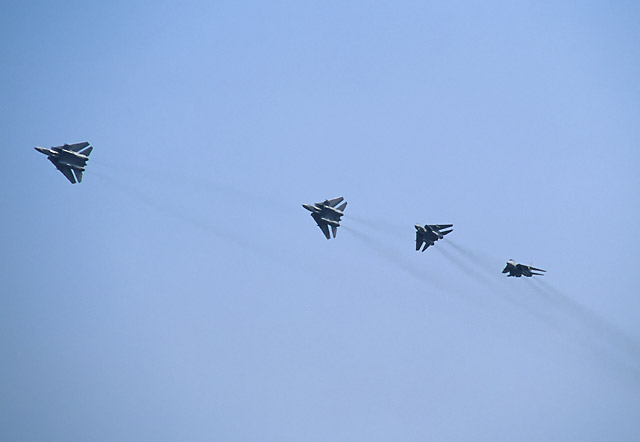F14: (33, 141, 93, 185), (301, 196, 348, 240), (413, 223, 454, 253), (501, 258, 547, 278)
